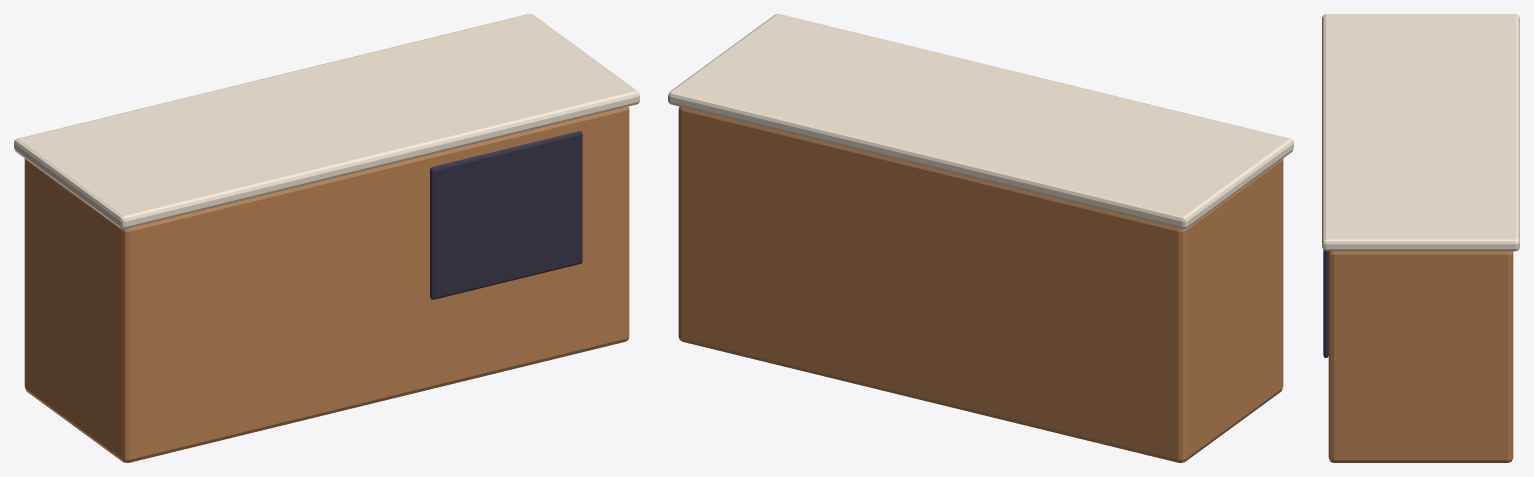
File: cafe_counter.glb
3 views of the same model, side by side, from view 1: azimuth 30°, elevation 25°; view 2: azimuth 150°, elevation 25°; view 3: azimuth 270°, elevation 25° (orthographic). The views are drawn at different scales.
Parts seen in each view (by area): view 1: cafe_counter; view 2: cafe_counter; view 3: cafe_counter.
Boxes of the visible parts, left/top/right/bottom form: cafe_counter: left=14, top=14, right=639, bottom=462; cafe_counter: left=668, top=14, right=1293, bottom=462; cafe_counter: left=1322, top=14, right=1519, bottom=462.
Size of the model in its own units: 2.05 by 0.95 by 0.75.
